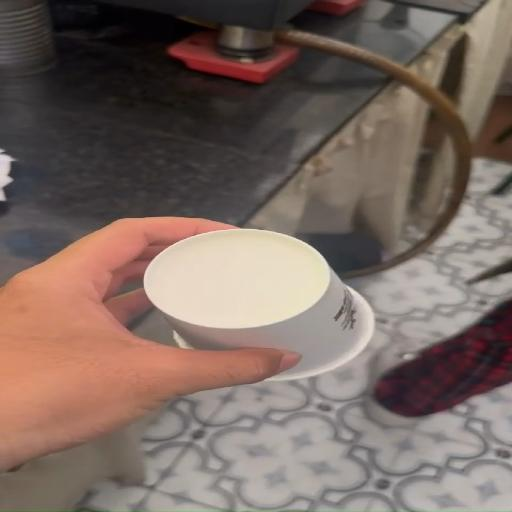Ly_giay: (143, 228, 373, 380)
